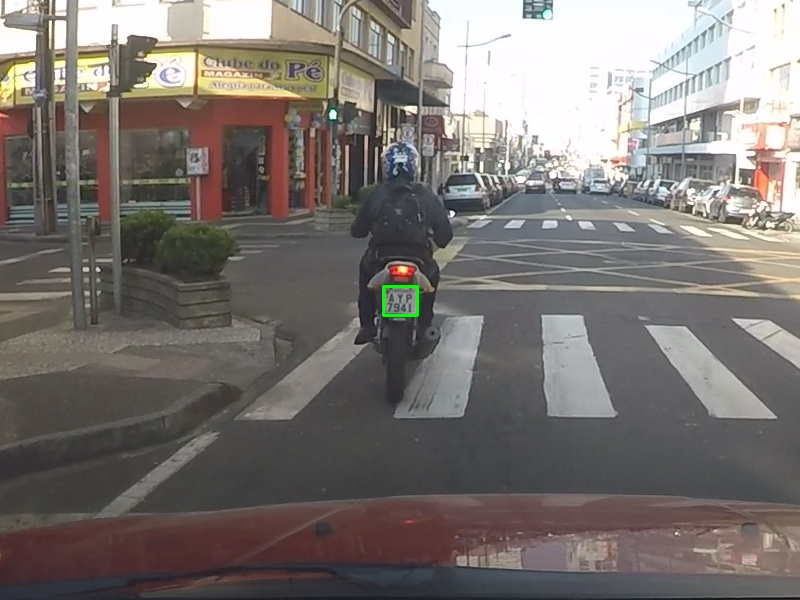placa: (383, 286, 417, 315)
